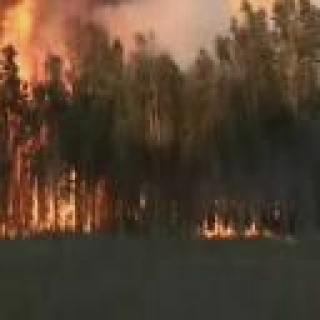fire: (0, 0, 117, 234), (190, 207, 287, 238)
